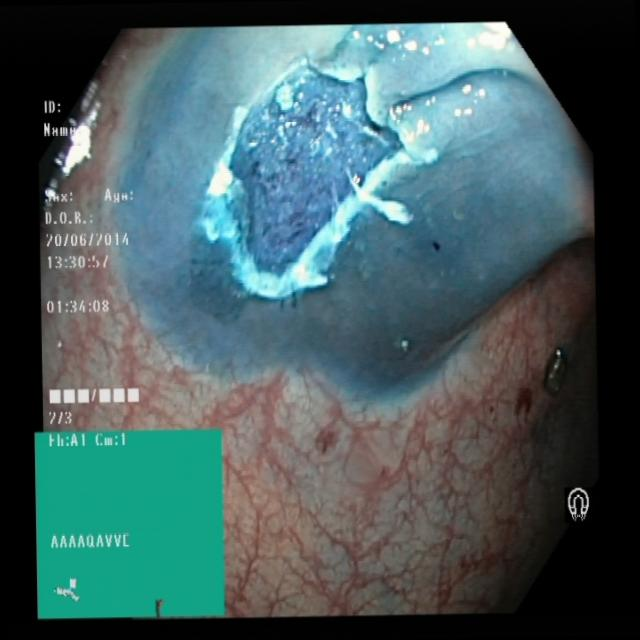dyed-resection-margins: (186, 44, 464, 299)
